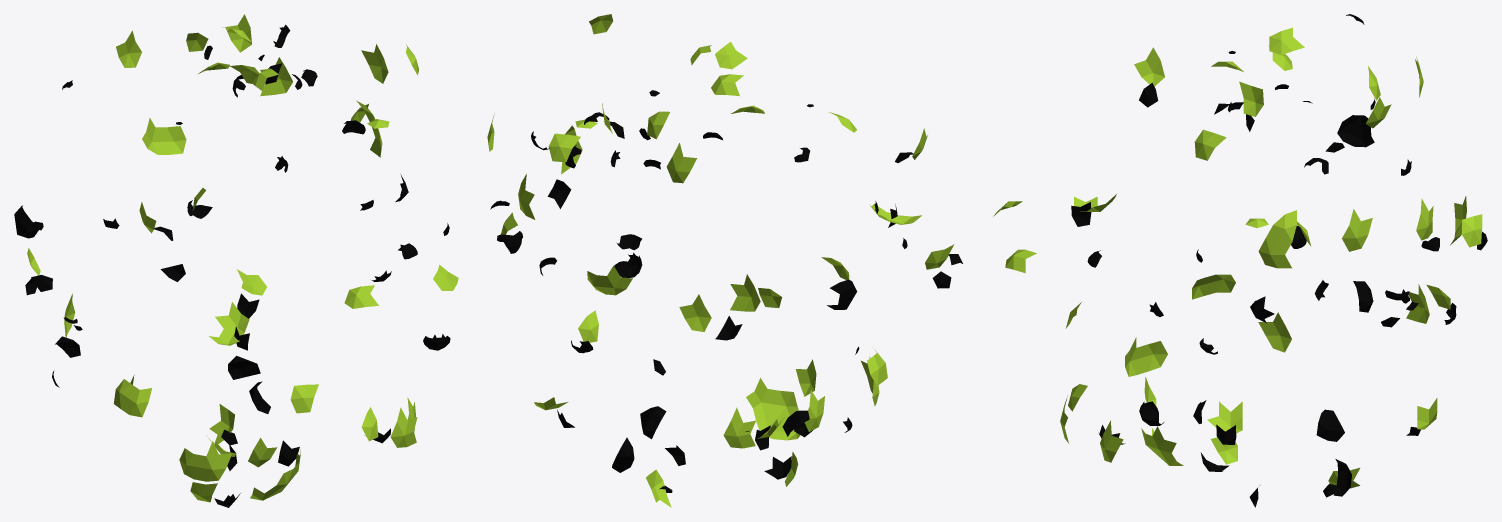
Rendered from explode.f0013.glb.
3 views of the same model, side by side, from view 1: azimuth 30°, elevation 25°; view 2: azimuth 150°, elevation 25°; view 3: azimuth 270°, elevation 25° (orthographic). The views are drawn at different scales.
Parts seen in each view (by area): view 1: Body.001; view 2: Body.001; view 3: Body.001.
Boxes of the visible parts, <box> form: Body.001: <box>14,14,458,507</box>; Body.001: <box>487,14,962,507</box>; Body.001: <box>993,14,1487,507</box>.
Bounding box in the file's own units: 10.31 × 10.68 × 10.42.
Materials: 1 (1 with a texture image).
